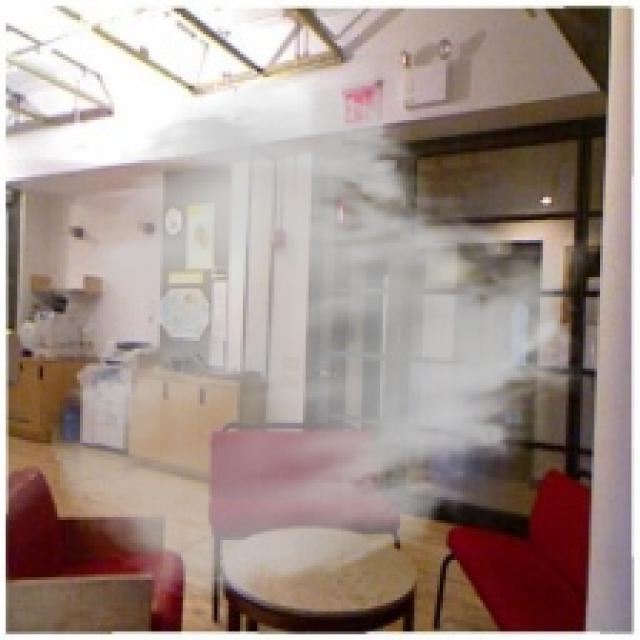smoke: (46, 74, 600, 603)
